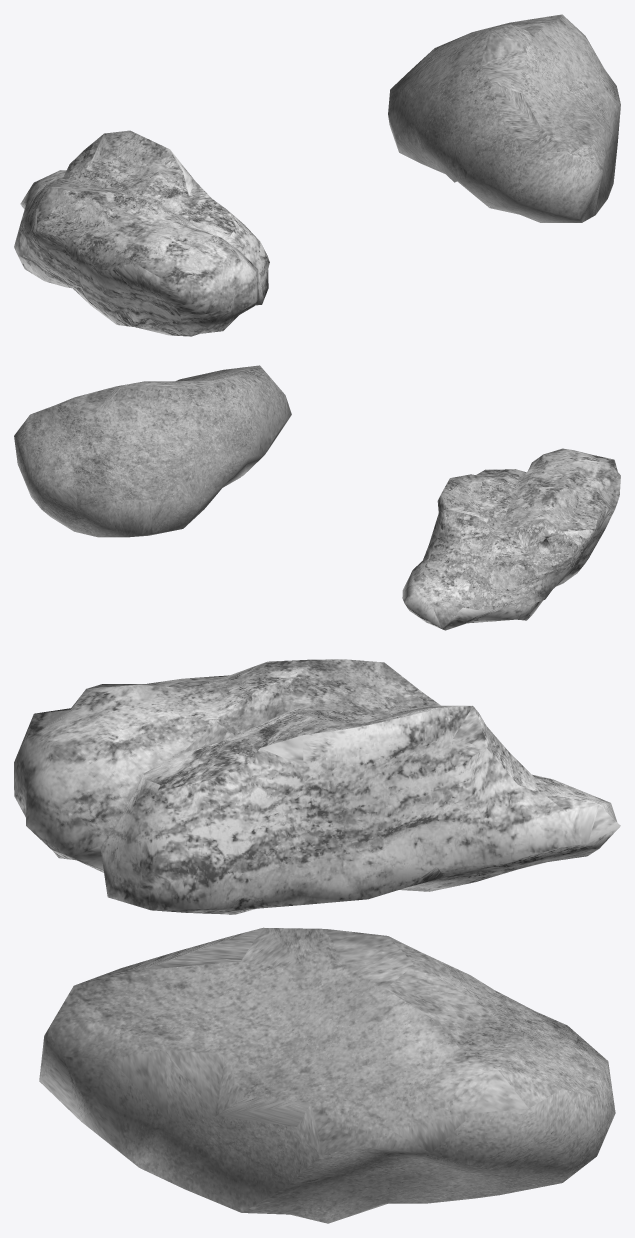
The model's file is namaqualand_boulders_01.glb.
3 renders of one model, top to bottom at view 1: azimuth 30°, elevation 25°; view 2: azimuth 150°, elevation 25°; view 3: azimuth 270°, elevation 25°, orthographic. The views are drawn at different scales.
Parts seen in each view (by area): view 1: namaqualand_boulders_01; view 2: namaqualand_boulders_01; view 3: namaqualand_boulders_01.
Part boxes in pixels (x1=…): namaqualand_boulders_01: x1=14, y1=14, x2=620, y2=336; namaqualand_boulders_01: x1=14, y1=365, x2=620, y2=630; namaqualand_boulders_01: x1=14, y1=659, x2=620, y2=1223.
Size of the model in its own units: 1.06 by 0.2508 by 0.5784.
1 material, 1 textured.
